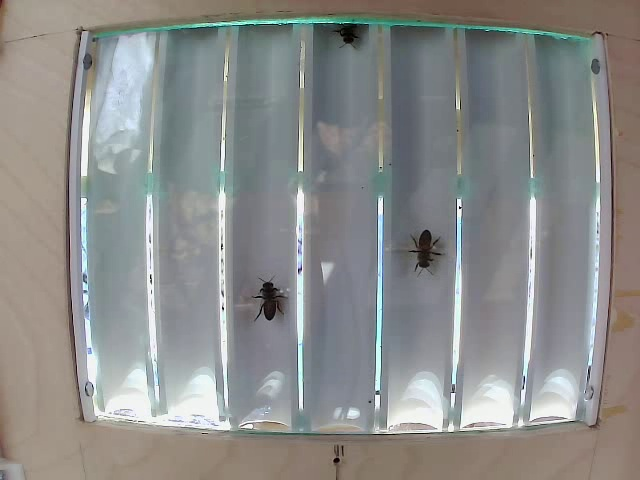bee: (247, 280, 292, 331), (407, 230, 443, 268), (345, 13, 359, 50)
